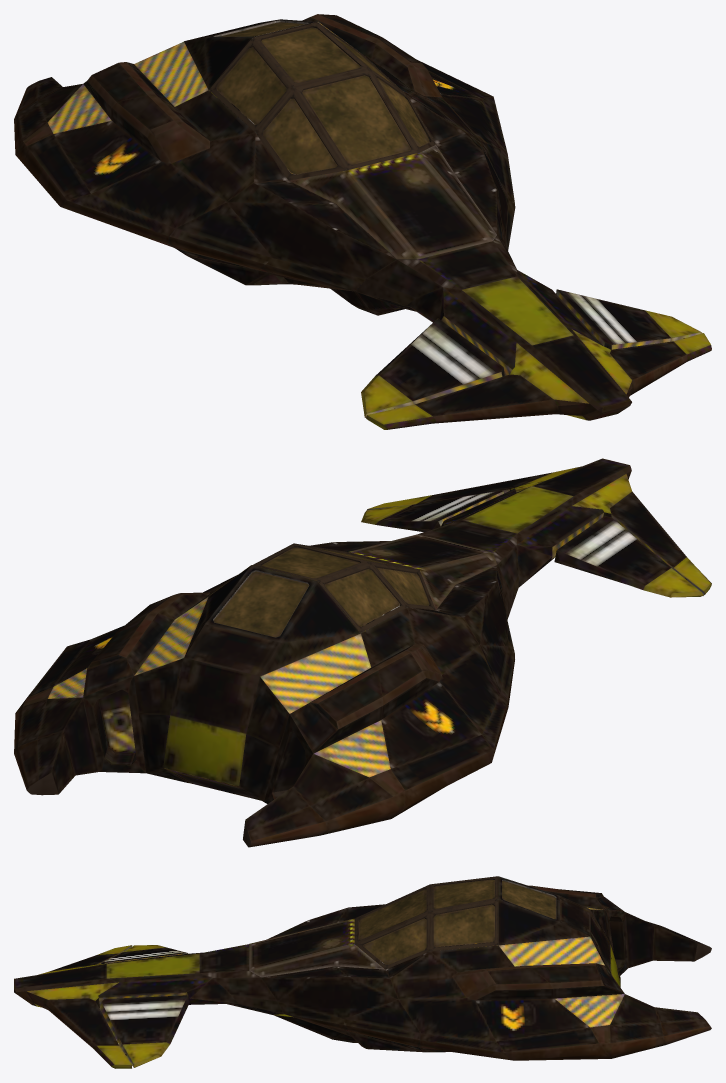
File: ship_3.gltf
3 renders of one model, top to bottom at view 1: azimuth 30°, elevation 25°; view 2: azimuth 150°, elevation 25°; view 3: azimuth 270°, elevation 25°, orthographic. The views are drawn at different scales.
Parts seen in each view (by area): view 1: satellite, cap, nose wing R (1), cabin chassis, long nose (1), nose wing L (1); view 2: satellite, cabin chassis, nose wing R (1), long nose (1), cap, nose wing L (1); view 3: satellite, cabin chassis, nose wing L (1), cap, long nose (1), nose wing R (1).
Boxes of the visible parts, box(x1,y1,x2,y2) form: satellite: box(14, 14, 515, 291); cap: box(209, 22, 435, 180); nose wing R (1): box(361, 287, 589, 429); cabin chassis: box(184, 19, 501, 315); long nose (1): box(355, 235, 631, 420); nose wing L (1): box(517, 270, 711, 397); satellite: box(14, 541, 514, 847); cabin chassis: box(163, 534, 507, 800); nose wing R (1): box(517, 474, 711, 597); long nose (1): box(418, 458, 631, 619); cap: box(209, 543, 435, 632); nose wing L (1): box(361, 466, 581, 531); satellite: box(261, 885, 711, 1060); cabin chassis: box(249, 876, 620, 1038); nose wing L (1): box(26, 978, 237, 1068); cap: box(354, 876, 498, 969); long nose (1): box(14, 944, 283, 1014); nose wing R (1): box(38, 945, 202, 974).
Size of the model in its own units: 6.34 by 2.81 by 12.15.
3 materials, 3 textured.
